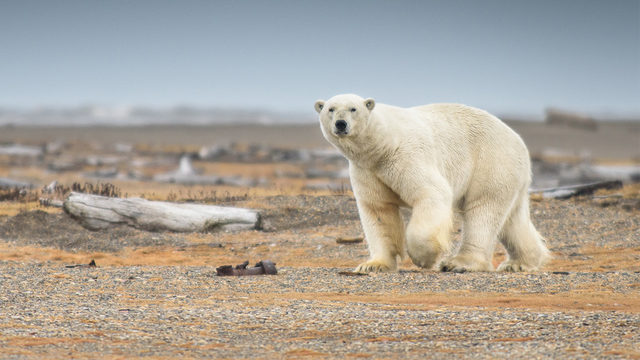Polar Bear: (314, 50, 576, 283)
